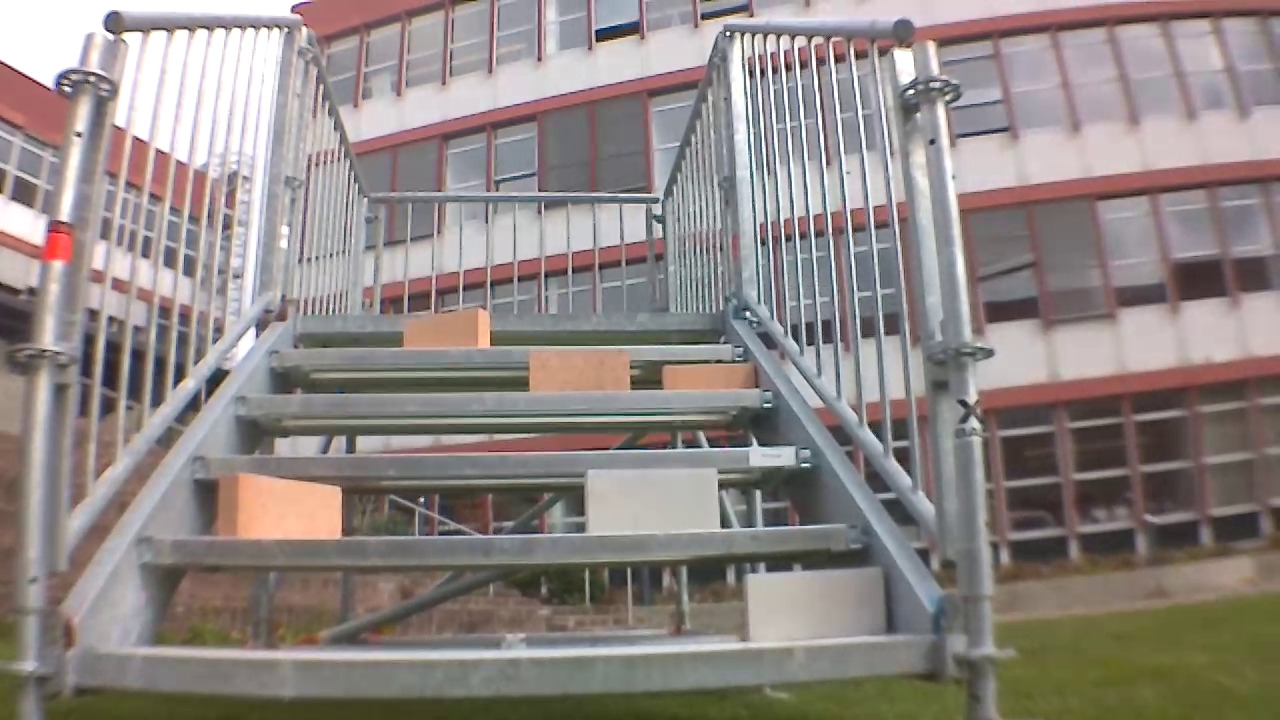brick: (743, 567, 885, 642), (584, 469, 718, 532), (219, 473, 340, 538), (530, 349, 630, 391), (404, 309, 488, 348), (664, 364, 756, 391)
edge: (74, 648, 929, 694), (137, 525, 868, 564), (192, 446, 811, 476), (237, 389, 776, 418), (270, 346, 743, 365), (300, 313, 724, 331)
stairs: (1, 12, 1018, 718)
steps: (64, 304, 936, 700)
